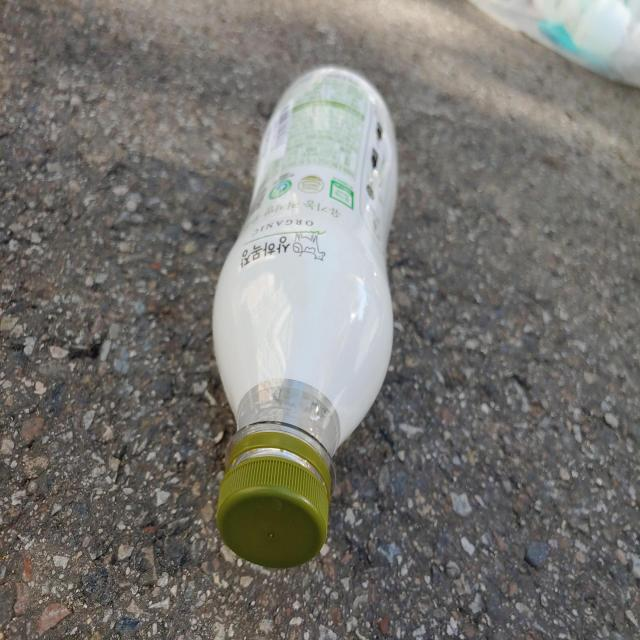plastic: (212, 66, 398, 568)
